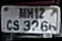character: (39, 19, 48, 31), (22, 19, 30, 31), (5, 18, 12, 30), (38, 6, 45, 18), (12, 19, 19, 30), (34, 6, 38, 18)
